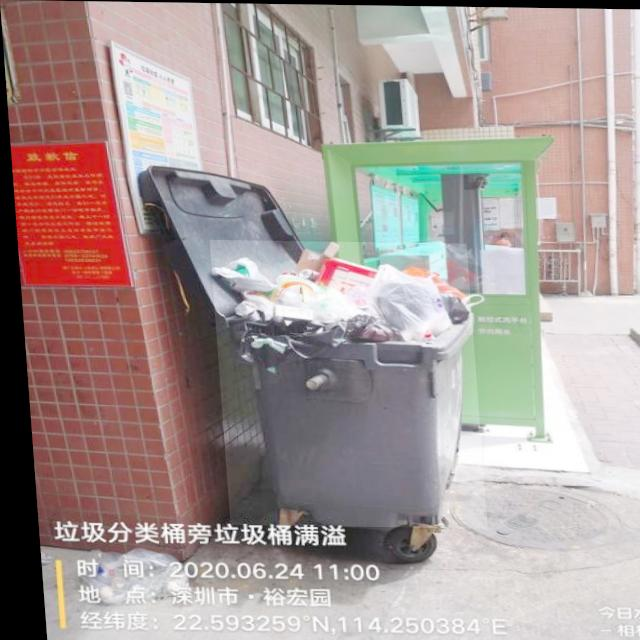overflow: (206, 239, 480, 527)
